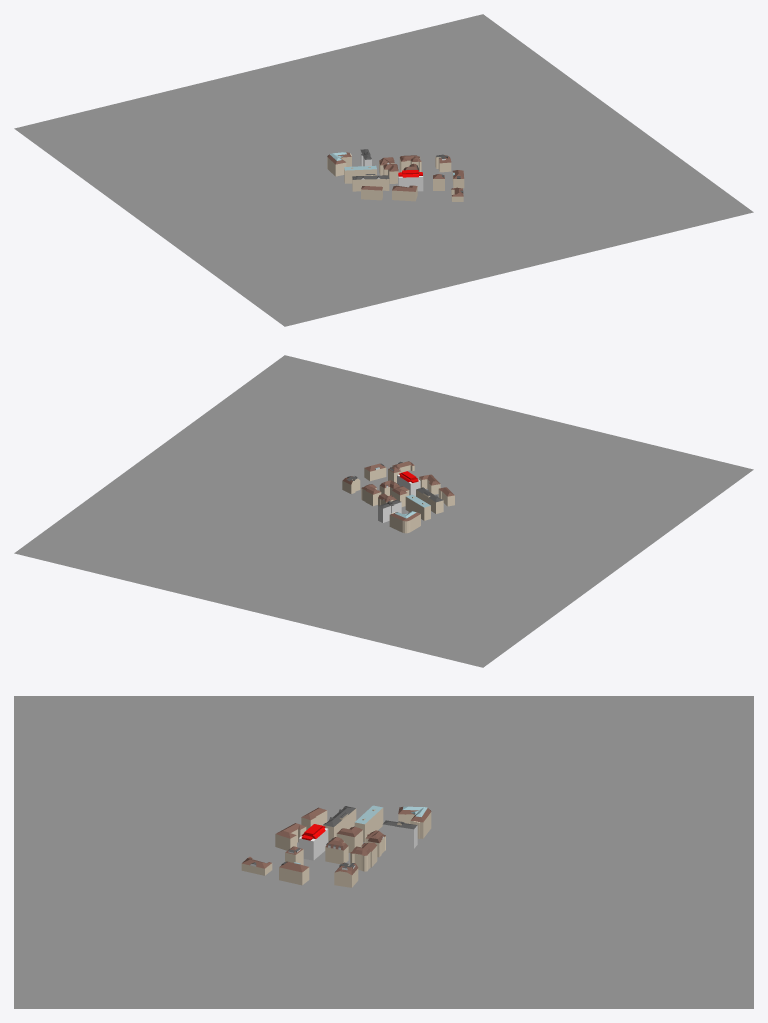
The picture shows the model from 3 angles, top to bottom: view 1: azimuth 30°, elevation 25°; view 2: azimuth 150°, elevation 25°; view 3: azimuth 270°, elevation 25°; orthographic projection. The views are drawn at different scales.
Visible parts, largest first — view 1: 0; view 2: 0; view 3: 0.
Boxes of the visible parts, box(x1,y1,x2,y2) form: 0: box(14, 14, 753, 326); 0: box(14, 355, 753, 667); 0: box(14, 696, 753, 1008).
Size of the model in its own units: 817 by 36.3 by 817.
